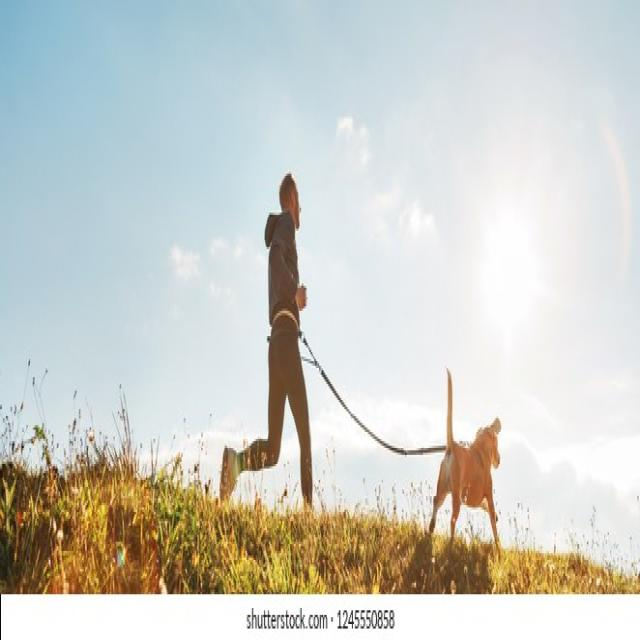running: (218, 170, 317, 512)
